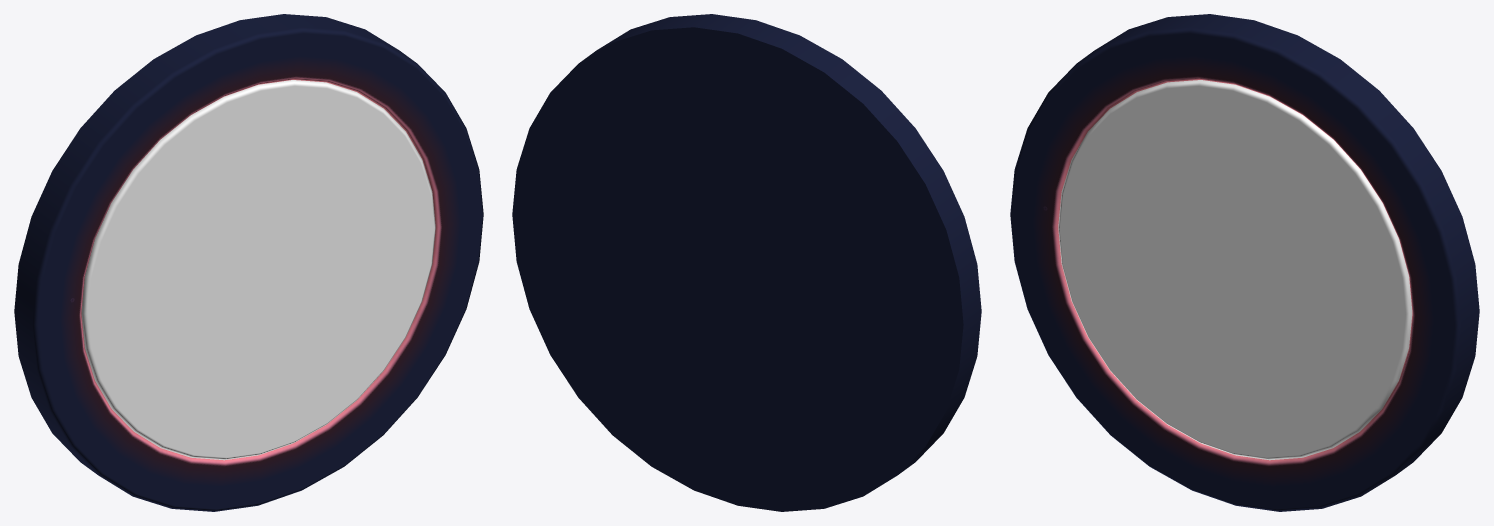
The picture shows the model from 3 angles, left to right: view 1: azimuth 30°, elevation 25°; view 2: azimuth 150°, elevation 25°; view 3: azimuth 330°, elevation 25°; orthographic projection.
Parts seen in each view (by area): view 1: Glass_LP, Clock_LP; view 2: Clock_LP; view 3: Glass_LP, Clock_LP.
Boxes of the visible parts, x1,y1,x2,y2 form: Glass_LP: (81,80,435,460); Clock_LP: (14,14,483,511); Clock_LP: (512,14,981,511); Glass_LP: (1058,80,1412,460); Clock_LP: (1010,14,1479,511).
Bounding box in the file's own units: 316 × 316 × 25.8.
4 materials, 1 textured.
